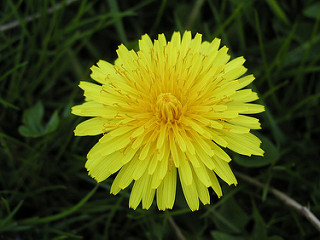dandelion yellow: (69, 29, 268, 212)
